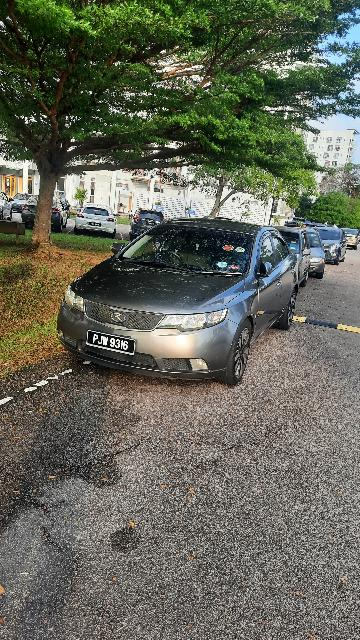License_Plate: (86, 328, 139, 361), (90, 222, 103, 228)
car: (52, 217, 303, 389), (76, 203, 121, 239), (131, 207, 168, 241)
